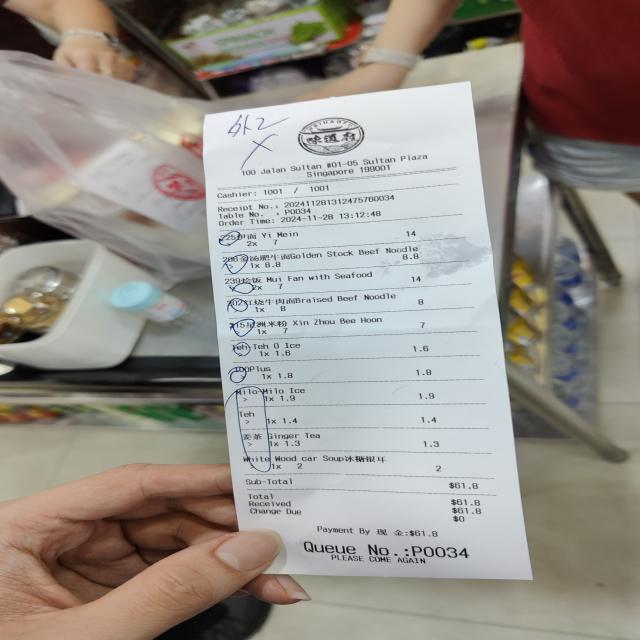bill_region: (202, 226, 488, 525)
